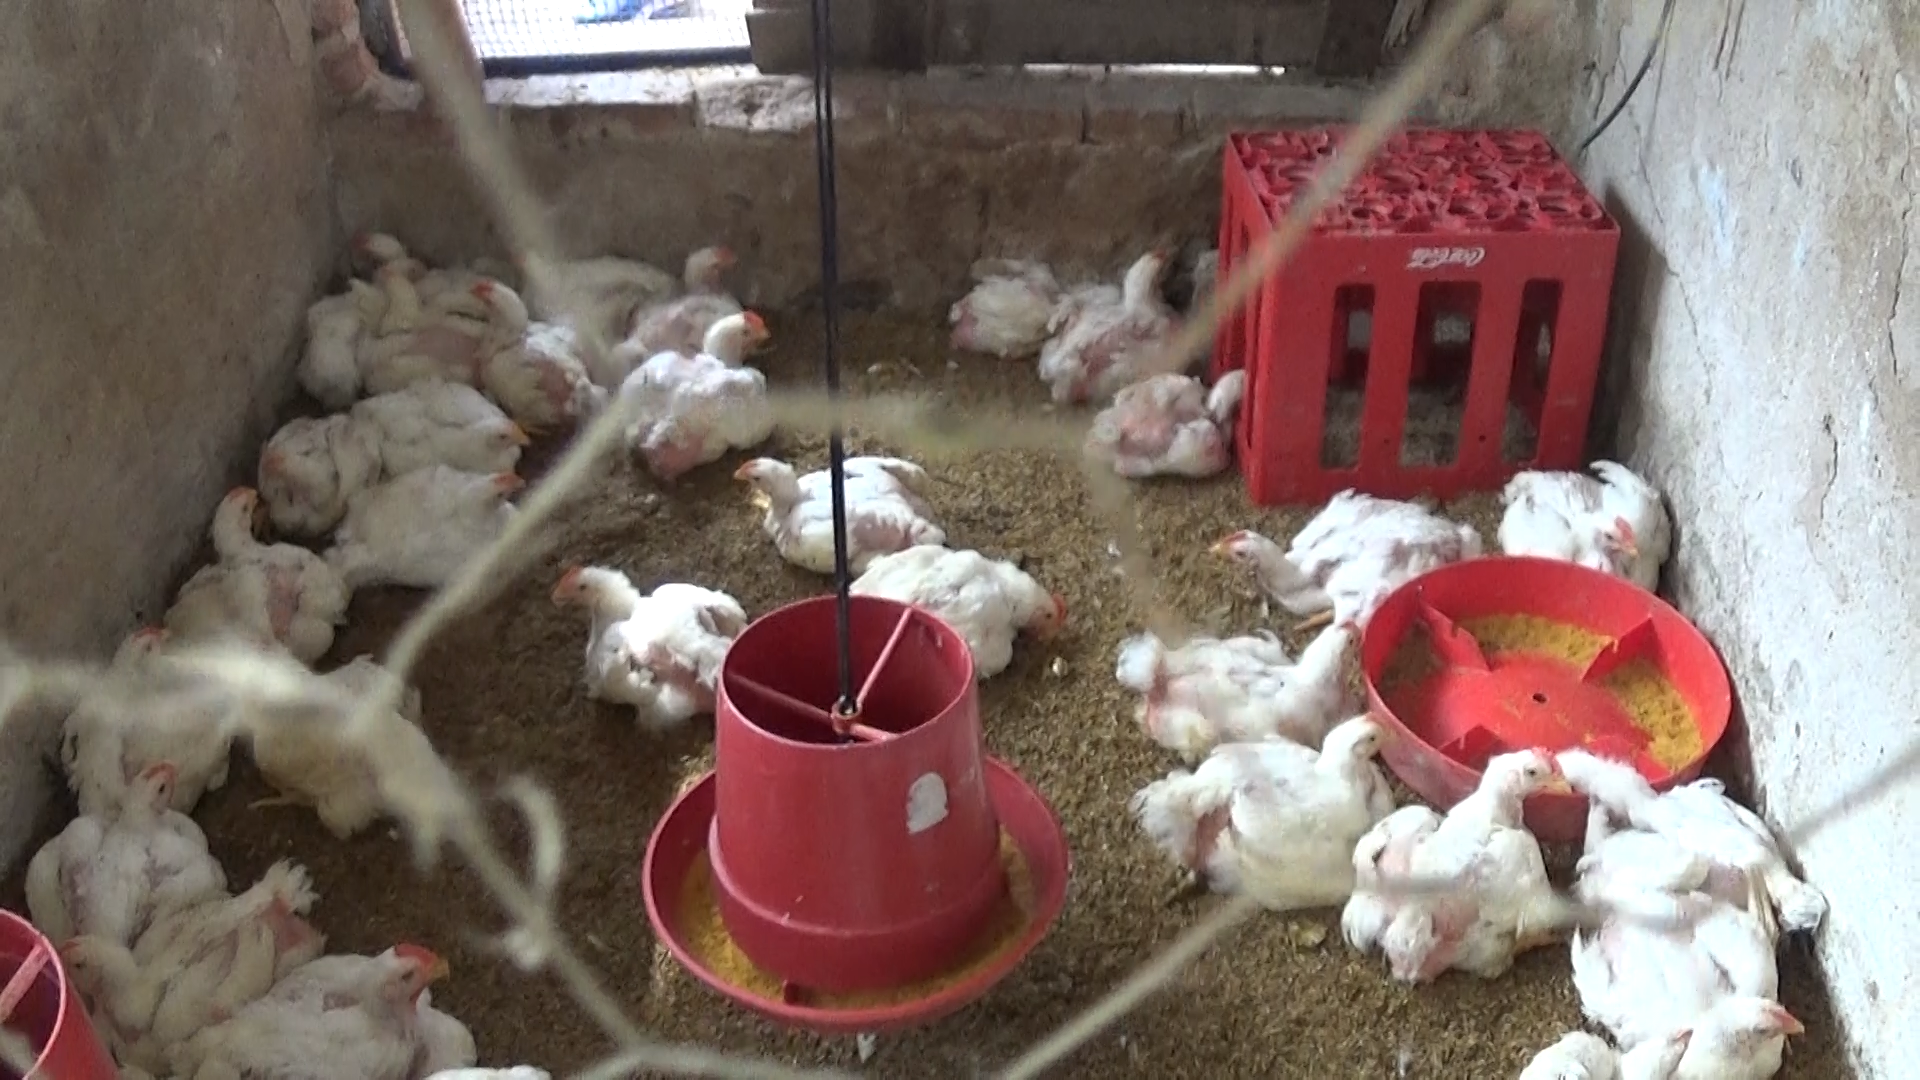Pollos: (1336, 742, 1576, 982), (57, 855, 316, 1056), (1151, 713, 1400, 907), (1565, 727, 1812, 918), (204, 911, 471, 1080), (1581, 891, 1830, 1069), (1187, 488, 1480, 632), (1112, 603, 1379, 753), (852, 541, 1080, 694), (539, 560, 748, 717), (591, 309, 789, 468), (55, 764, 220, 949), (1484, 448, 1685, 597), (189, 477, 356, 646), (735, 440, 957, 563), (1026, 233, 1187, 392), (326, 468, 545, 576), (1095, 359, 1253, 497), (331, 372, 530, 472), (451, 266, 615, 384), (924, 255, 1069, 372), (342, 229, 487, 338), (618, 229, 766, 323)
